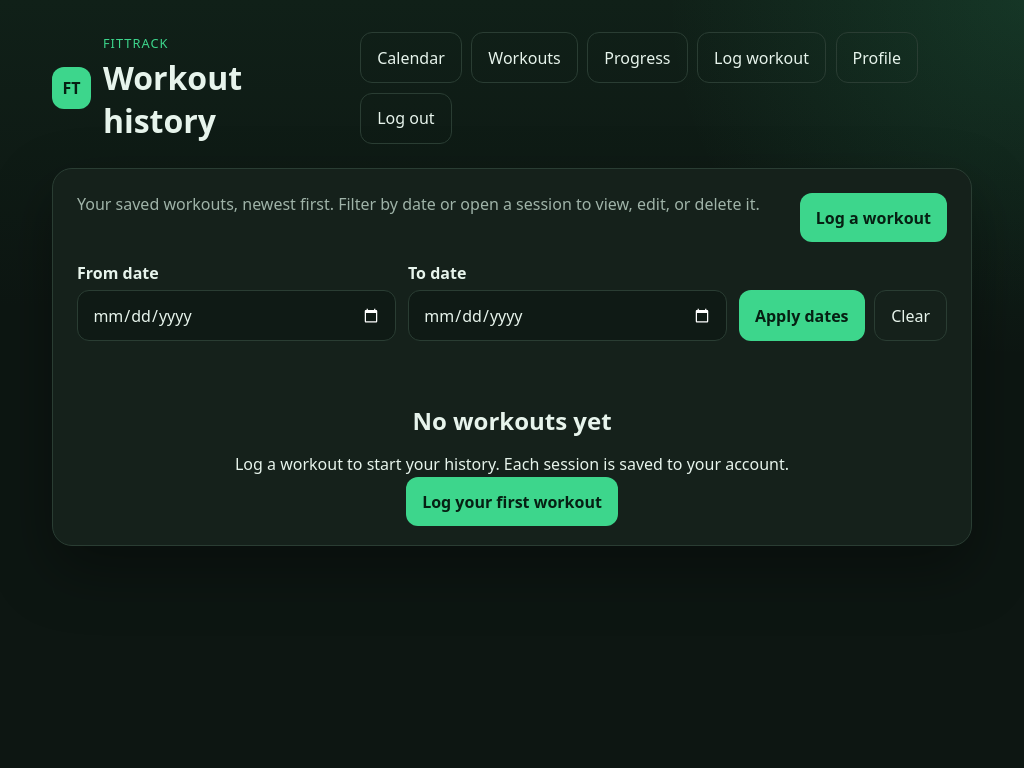
Test case: S2 workout pages › shows an empty history state and opens the create form
The image size is (1024, 768).
Check: the heading "No workouts yet" is shown, box [412, 404, 612, 437]
Click the link "Log your first workout": (512, 502) [406, 477, 618, 526]
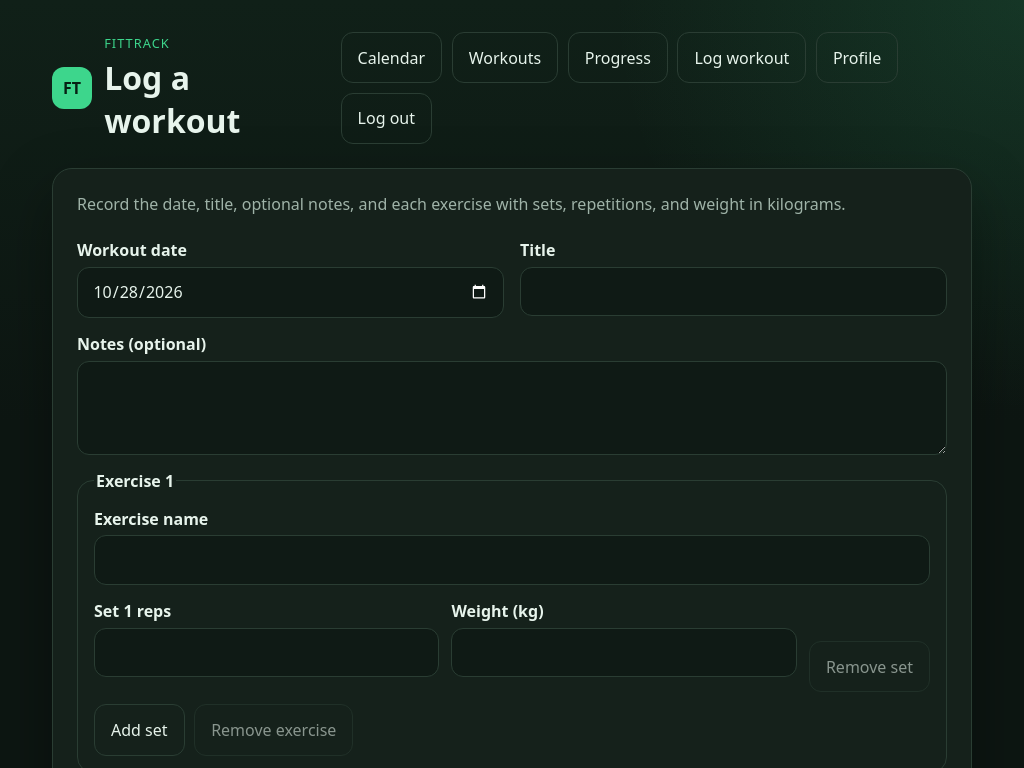
Check: the heading "Log a workout" is shown, box [104, 56, 240, 142]
